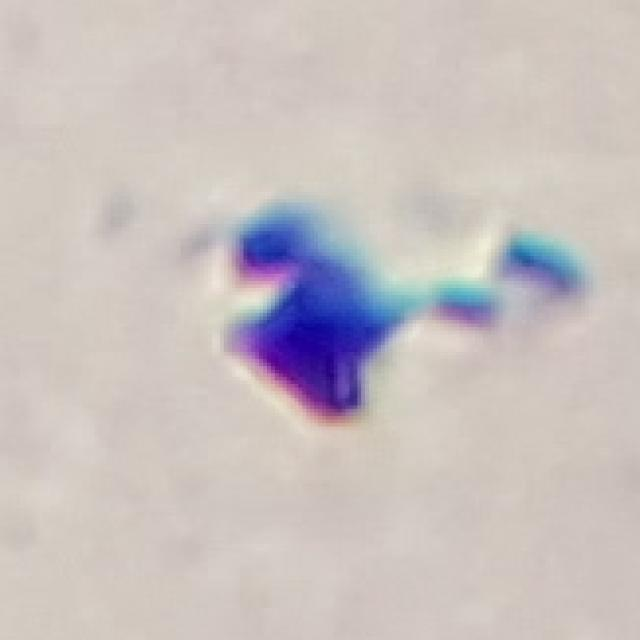non-sperm: (218, 210, 578, 426)
